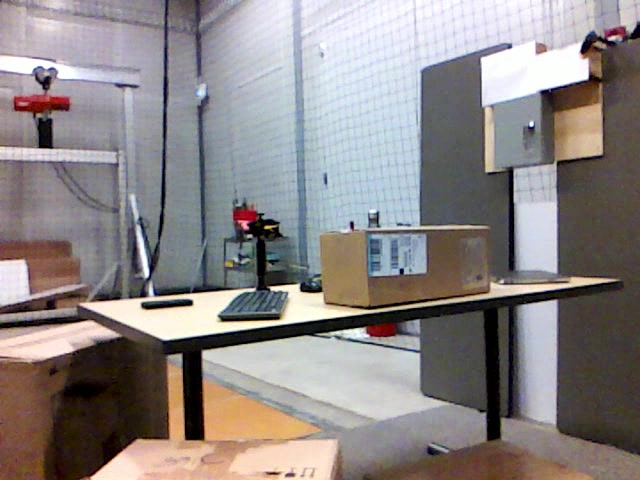box: (1, 321, 169, 480), (318, 225, 491, 306), (87, 437, 340, 480)
